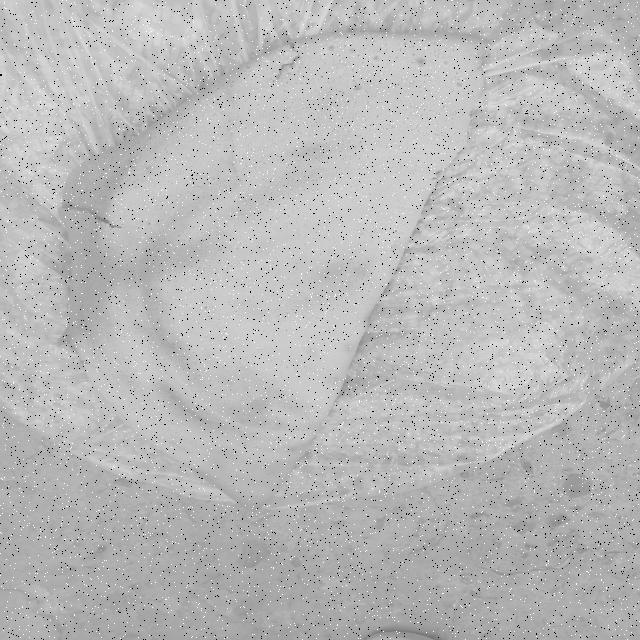injera_mold: (414, 56, 427, 68), (221, 220, 234, 230), (276, 50, 289, 59), (287, 60, 298, 70), (280, 364, 293, 371), (351, 84, 362, 92), (262, 56, 271, 65), (327, 44, 338, 51), (371, 54, 382, 61), (455, 81, 464, 88), (442, 60, 451, 66), (350, 78, 358, 84), (426, 79, 434, 84), (348, 48, 357, 52), (402, 42, 409, 47), (128, 170, 132, 174), (285, 45, 290, 47), (142, 168, 147, 170), (233, 472, 236, 475), (233, 470, 237, 472), (128, 165, 132, 167), (227, 468, 230, 470), (243, 468, 246, 470), (236, 482, 238, 484), (124, 179, 126, 181), (143, 178, 145, 180), (128, 168, 130, 170), (227, 472, 230, 473), (239, 468, 242, 469), (235, 469, 238, 470), (131, 180, 134, 181), (237, 480, 239, 481), (221, 482, 223, 483), (132, 165, 134, 166), (124, 173, 126, 174)
